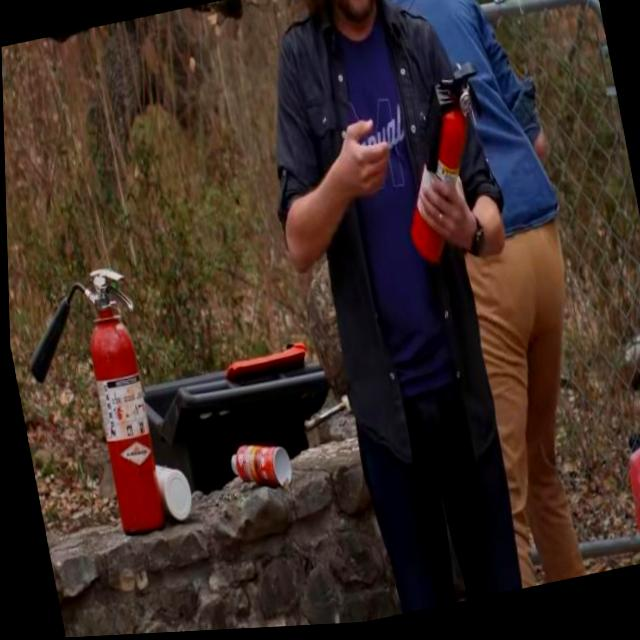FireExtinguisher: (6, 242, 185, 576), (376, 55, 512, 278), (221, 436, 293, 503)
